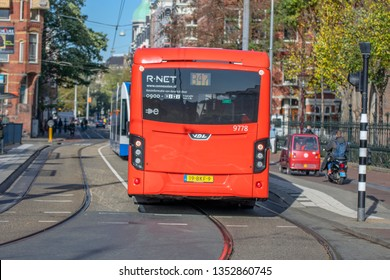bike: (325, 129, 350, 194)
bus: (128, 45, 272, 208)
car: (279, 128, 323, 178)
